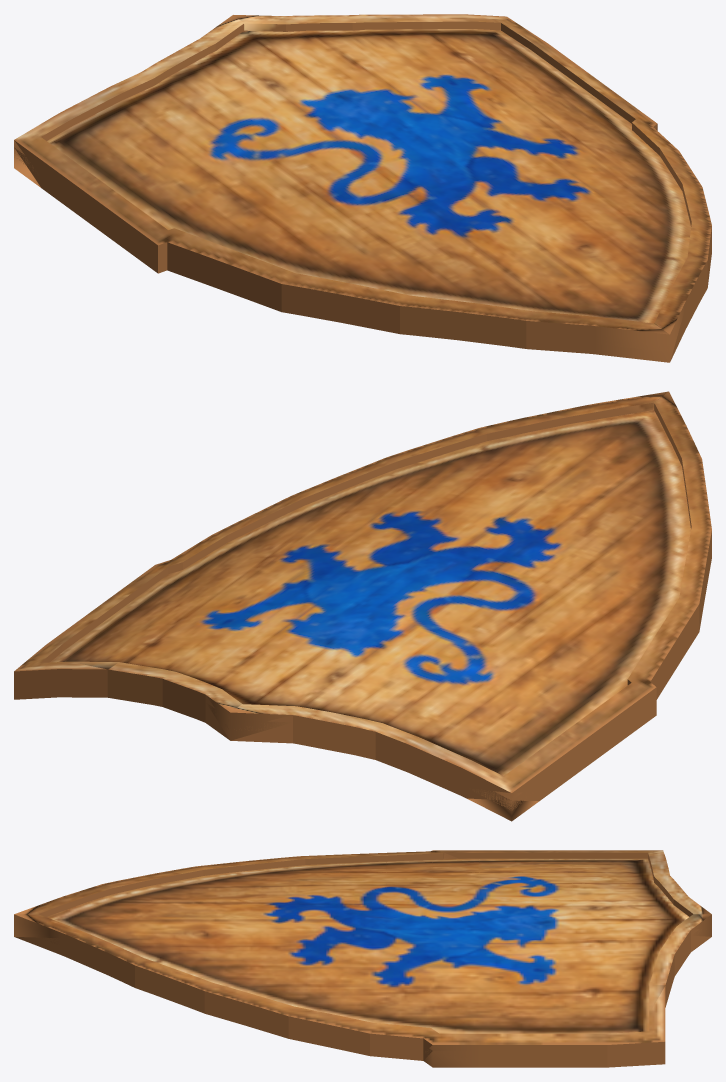
The model's file is item_mm9_10363.glb.
The picture shows the model from 3 angles, top to bottom: view 1: azimuth 30°, elevation 25°; view 2: azimuth 150°, elevation 25°; view 3: azimuth 270°, elevation 25°; orthographic projection. The views are drawn at different scales.
Parts seen in each view (by area): view 1: d10363; view 2: d10363; view 3: d10363.
Boxes of the visible parts, <box> form: d10363: <box>14,14,711,362</box>; d10363: <box>14,391,711,821</box>; d10363: <box>14,850,711,1067</box>.
Bounding box in the file's own units: 89.1 × 11.94 × 135.
1 material, 1 textured.
